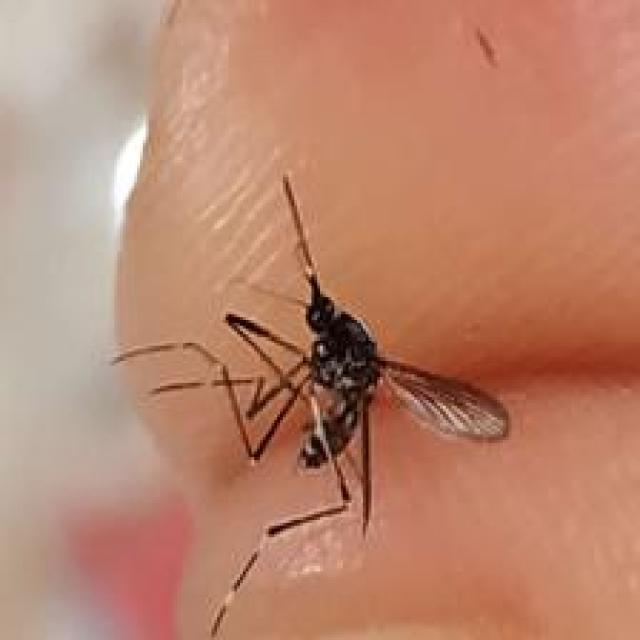Aedes albopictus: (109, 172, 512, 637)
